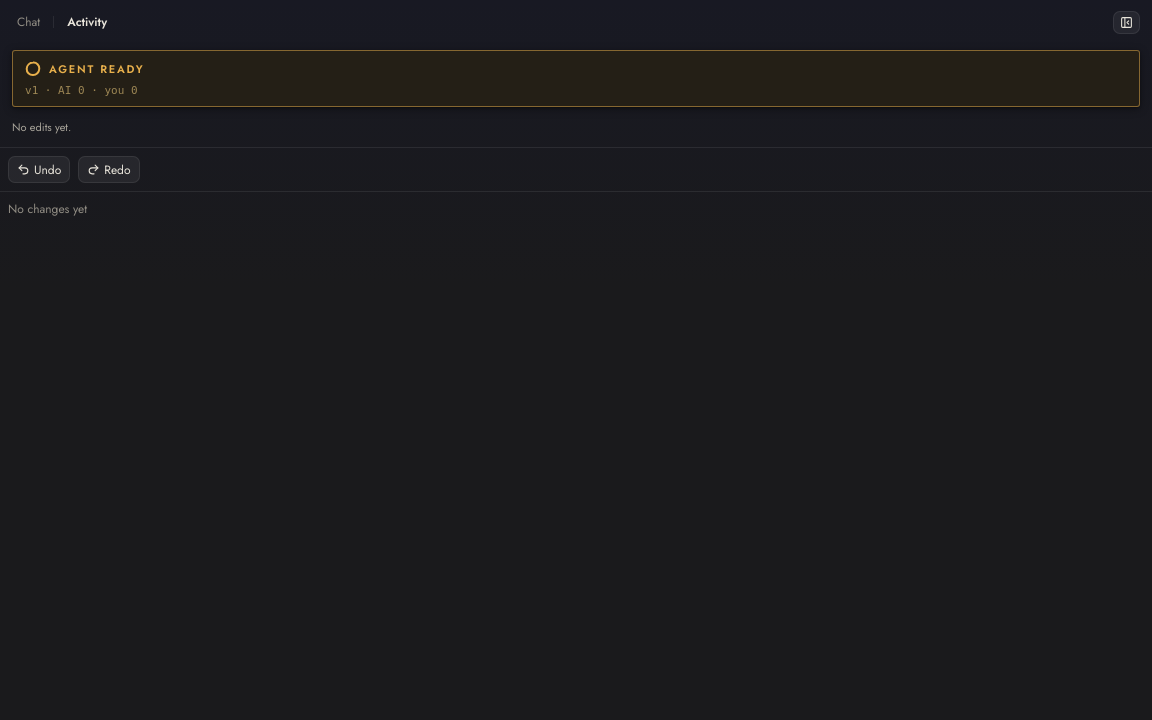
Scenario: AI column tabs › the status card lives inside the Activity tab only
Expected: the element with class "ap-card" is shown, top-left (12, 50), bottom-right (1140, 107)
Click the button with class "tab-link" showing "Chat". click: x=29, y=22
box: top-left (12, 10), bottom-right (45, 34)
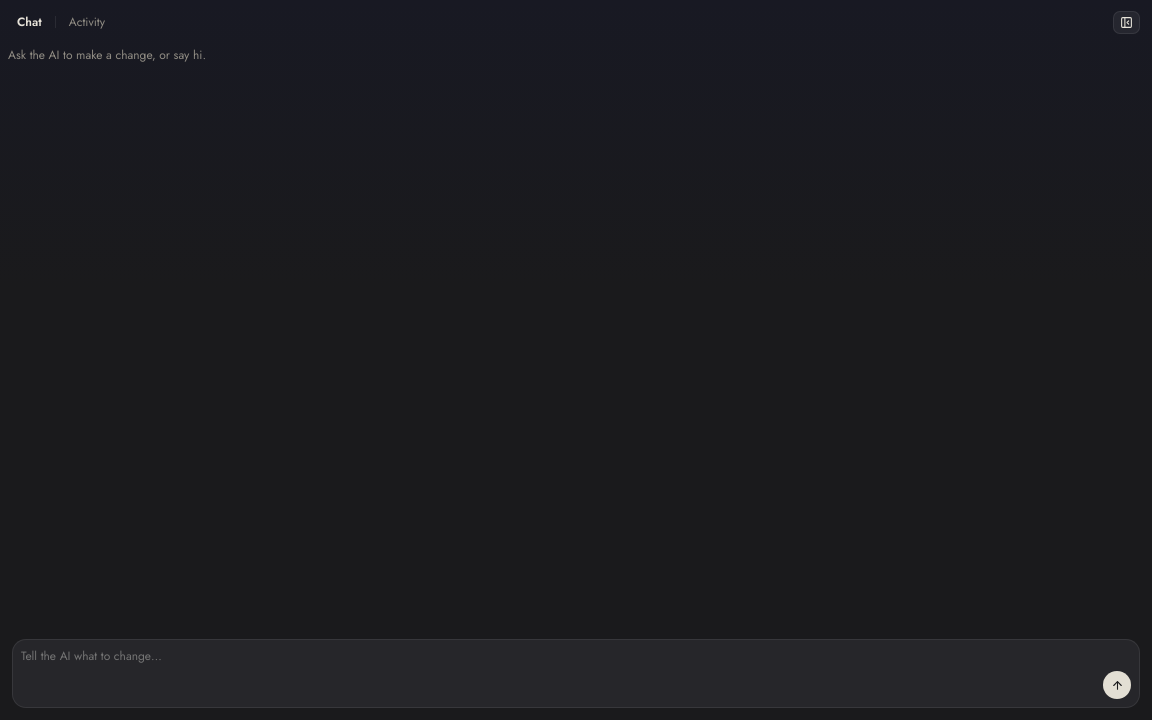
Expected: the element with class "ap-card" is gone
Click the button with class "tab-link" showing "Activity". click: x=87, y=22
box: top-left (64, 10), bottom-right (110, 34)
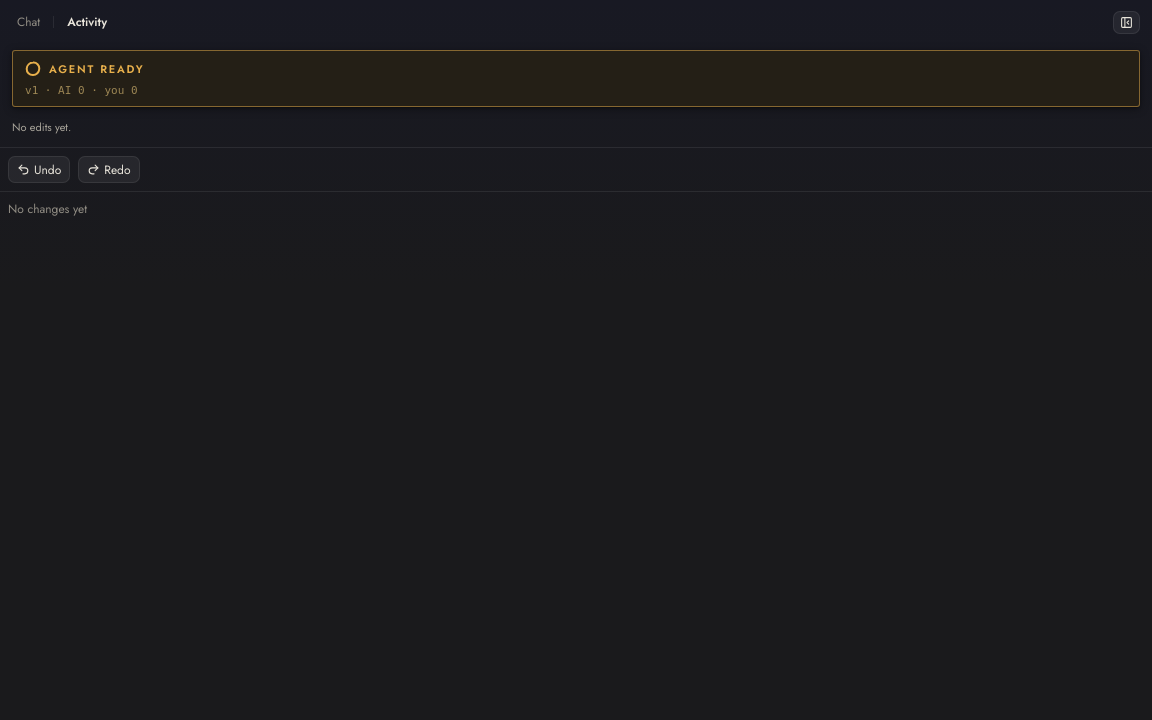
Expected: the element with class "ap-card" is shown, top-left (12, 50), bottom-right (1140, 107)
